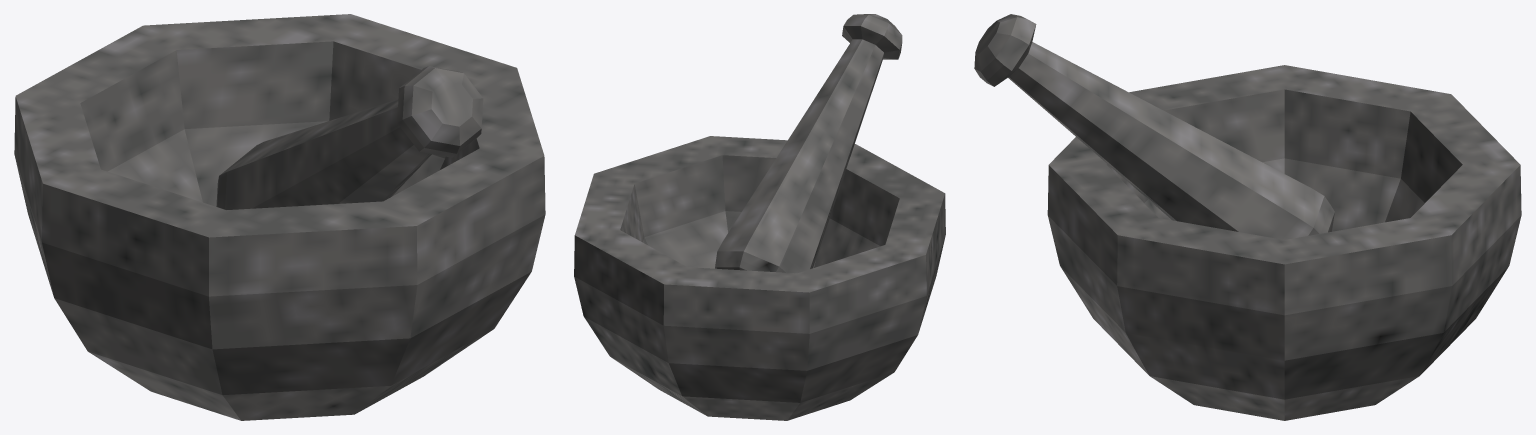
Rendered from SM_Dungeon_MortalAndPestle.fbx.
3 renders of one model, left to right at view 1: azimuth 30°, elevation 25°; view 2: azimuth 150°, elevation 25°; view 3: azimuth 270°, elevation 25°, orthographic. The views are drawn at different scales.
Visible parts, largest first — view 1: Deco_Mortal_and_Pestle; view 2: Deco_Mortal_and_Pestle; view 3: Deco_Mortal_and_Pestle.
Part boxes in pixels (x1=…): Deco_Mortal_and_Pestle: x1=14, y1=14, x2=545, y2=420; Deco_Mortal_and_Pestle: x1=574, y1=14, x2=945, y2=420; Deco_Mortal_and_Pestle: x1=974, y1=14, x2=1521, y2=420.
Size of the model in its own units: 21.04 by 17.13 by 24.29.
